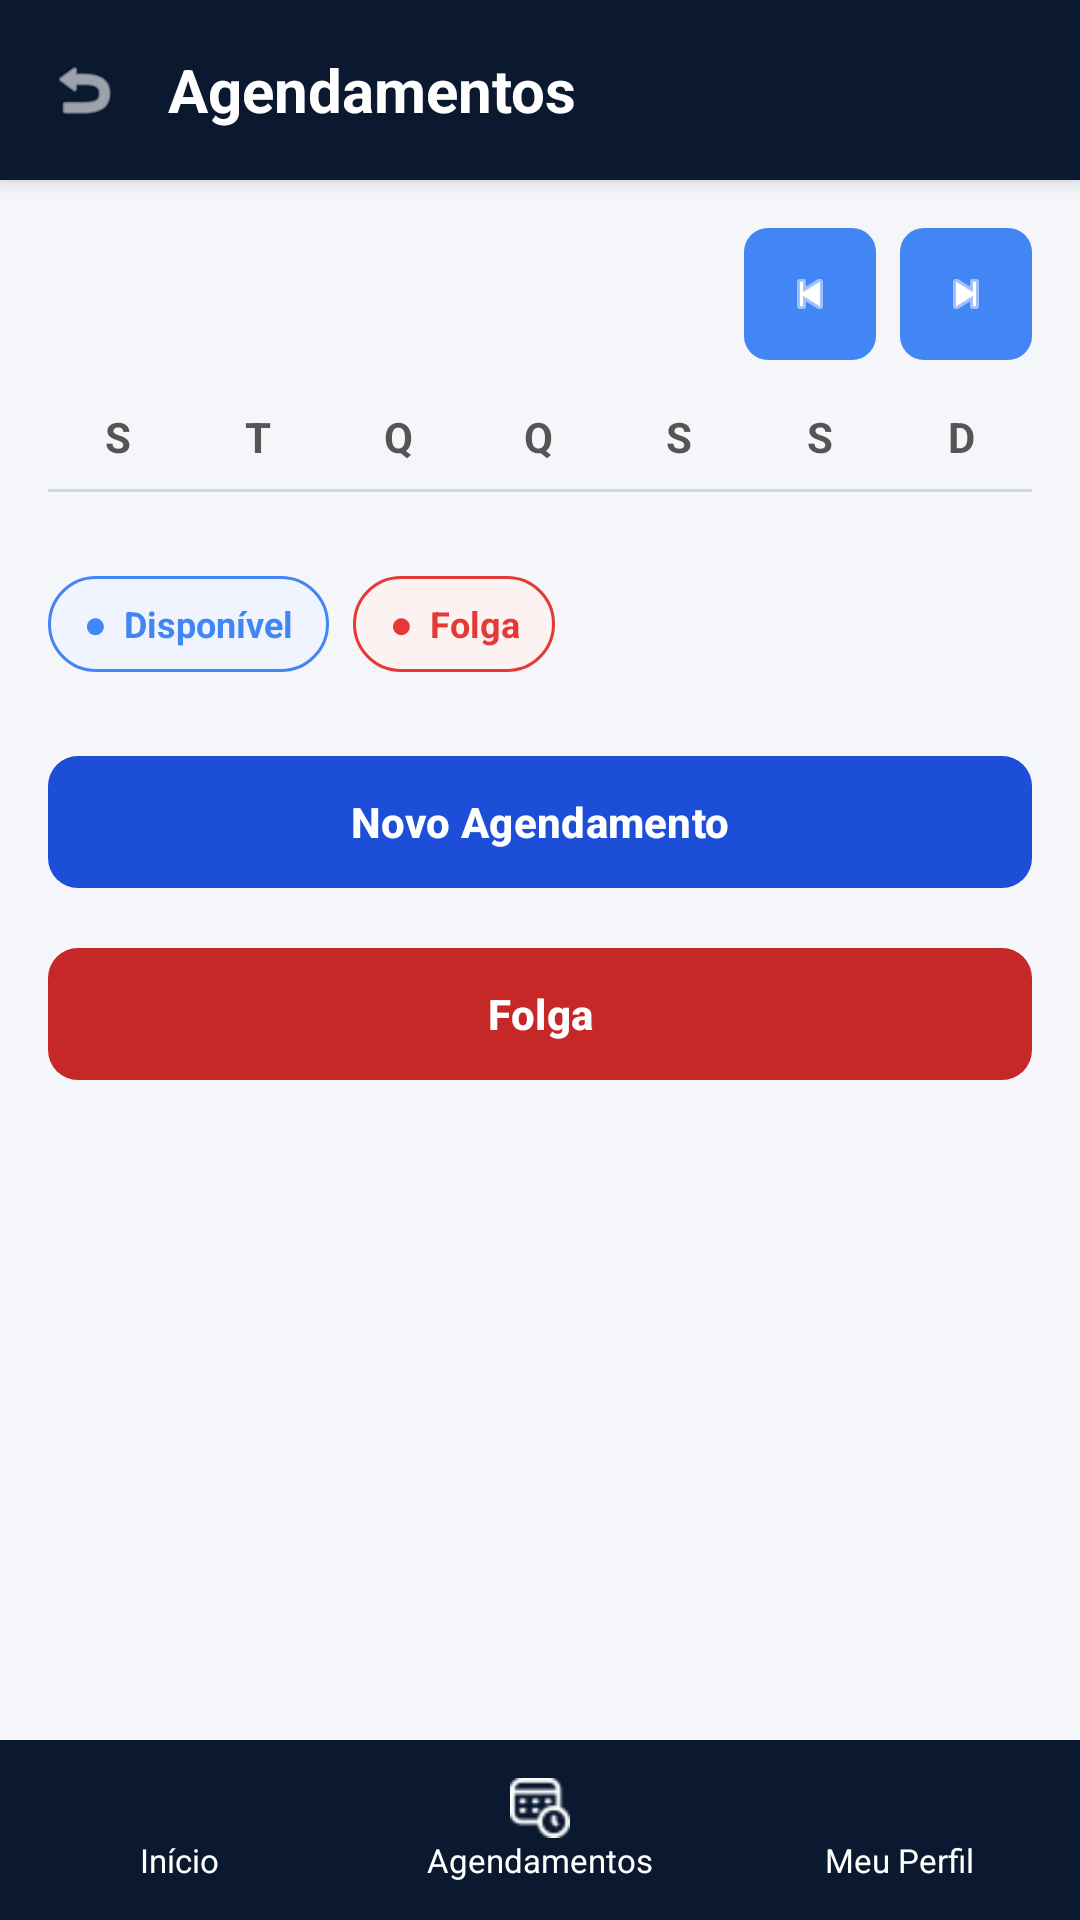

Where to tap for icons on this 1080×1920 app screen, as point (x, y):
next: point (966, 294)
previous: point (810, 294)
Voltar: point (85, 90)
